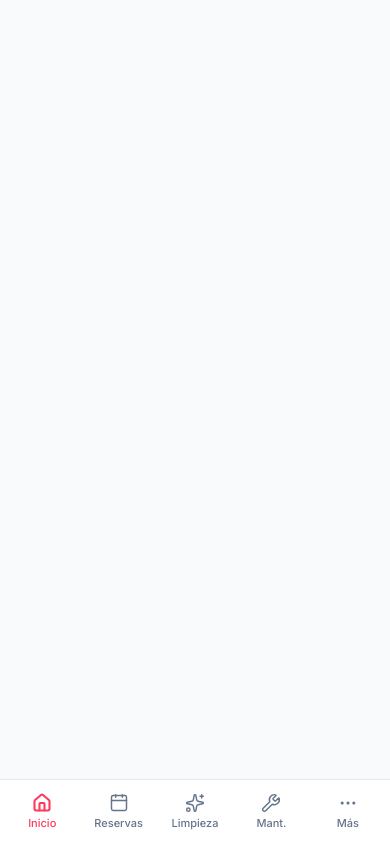
Test: BottomNav › admin ve 4 destinos + «Más», y «Más» abre el resto con etiquetas completas
Expected: the text "Inicio" is shown, [28,815,56,831]
Expected: the text "Mant." is shown, [256,815,286,831]
Click the button "Más".
click(348, 812)  # box [310,780,386,843]
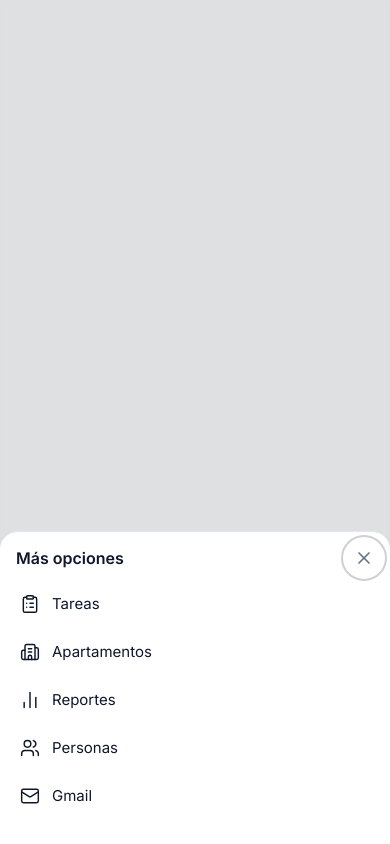
Now the link "Tareas" is shown, box [20,594,100,614]
Now the link "Apartamentos" is shown, box [20,642,152,662]
Now the link "Reportes" is shown, box [20,690,116,710]
